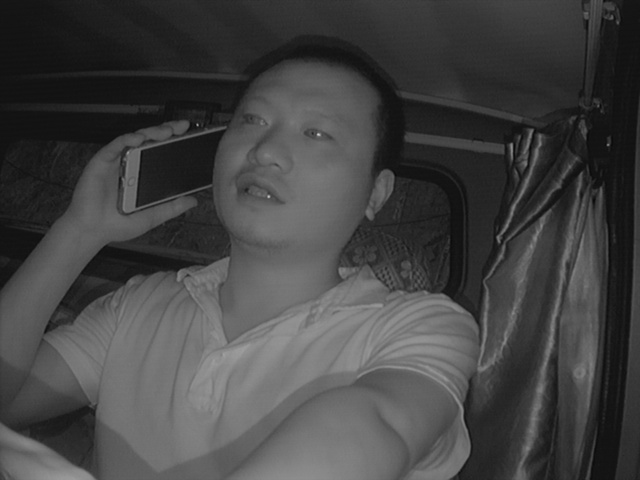hand: (82, 117, 194, 231)
